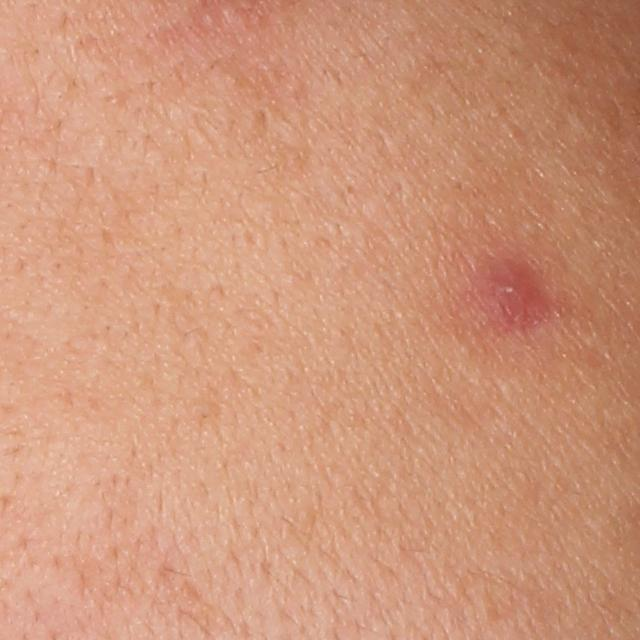papule: (480, 266, 534, 319)
